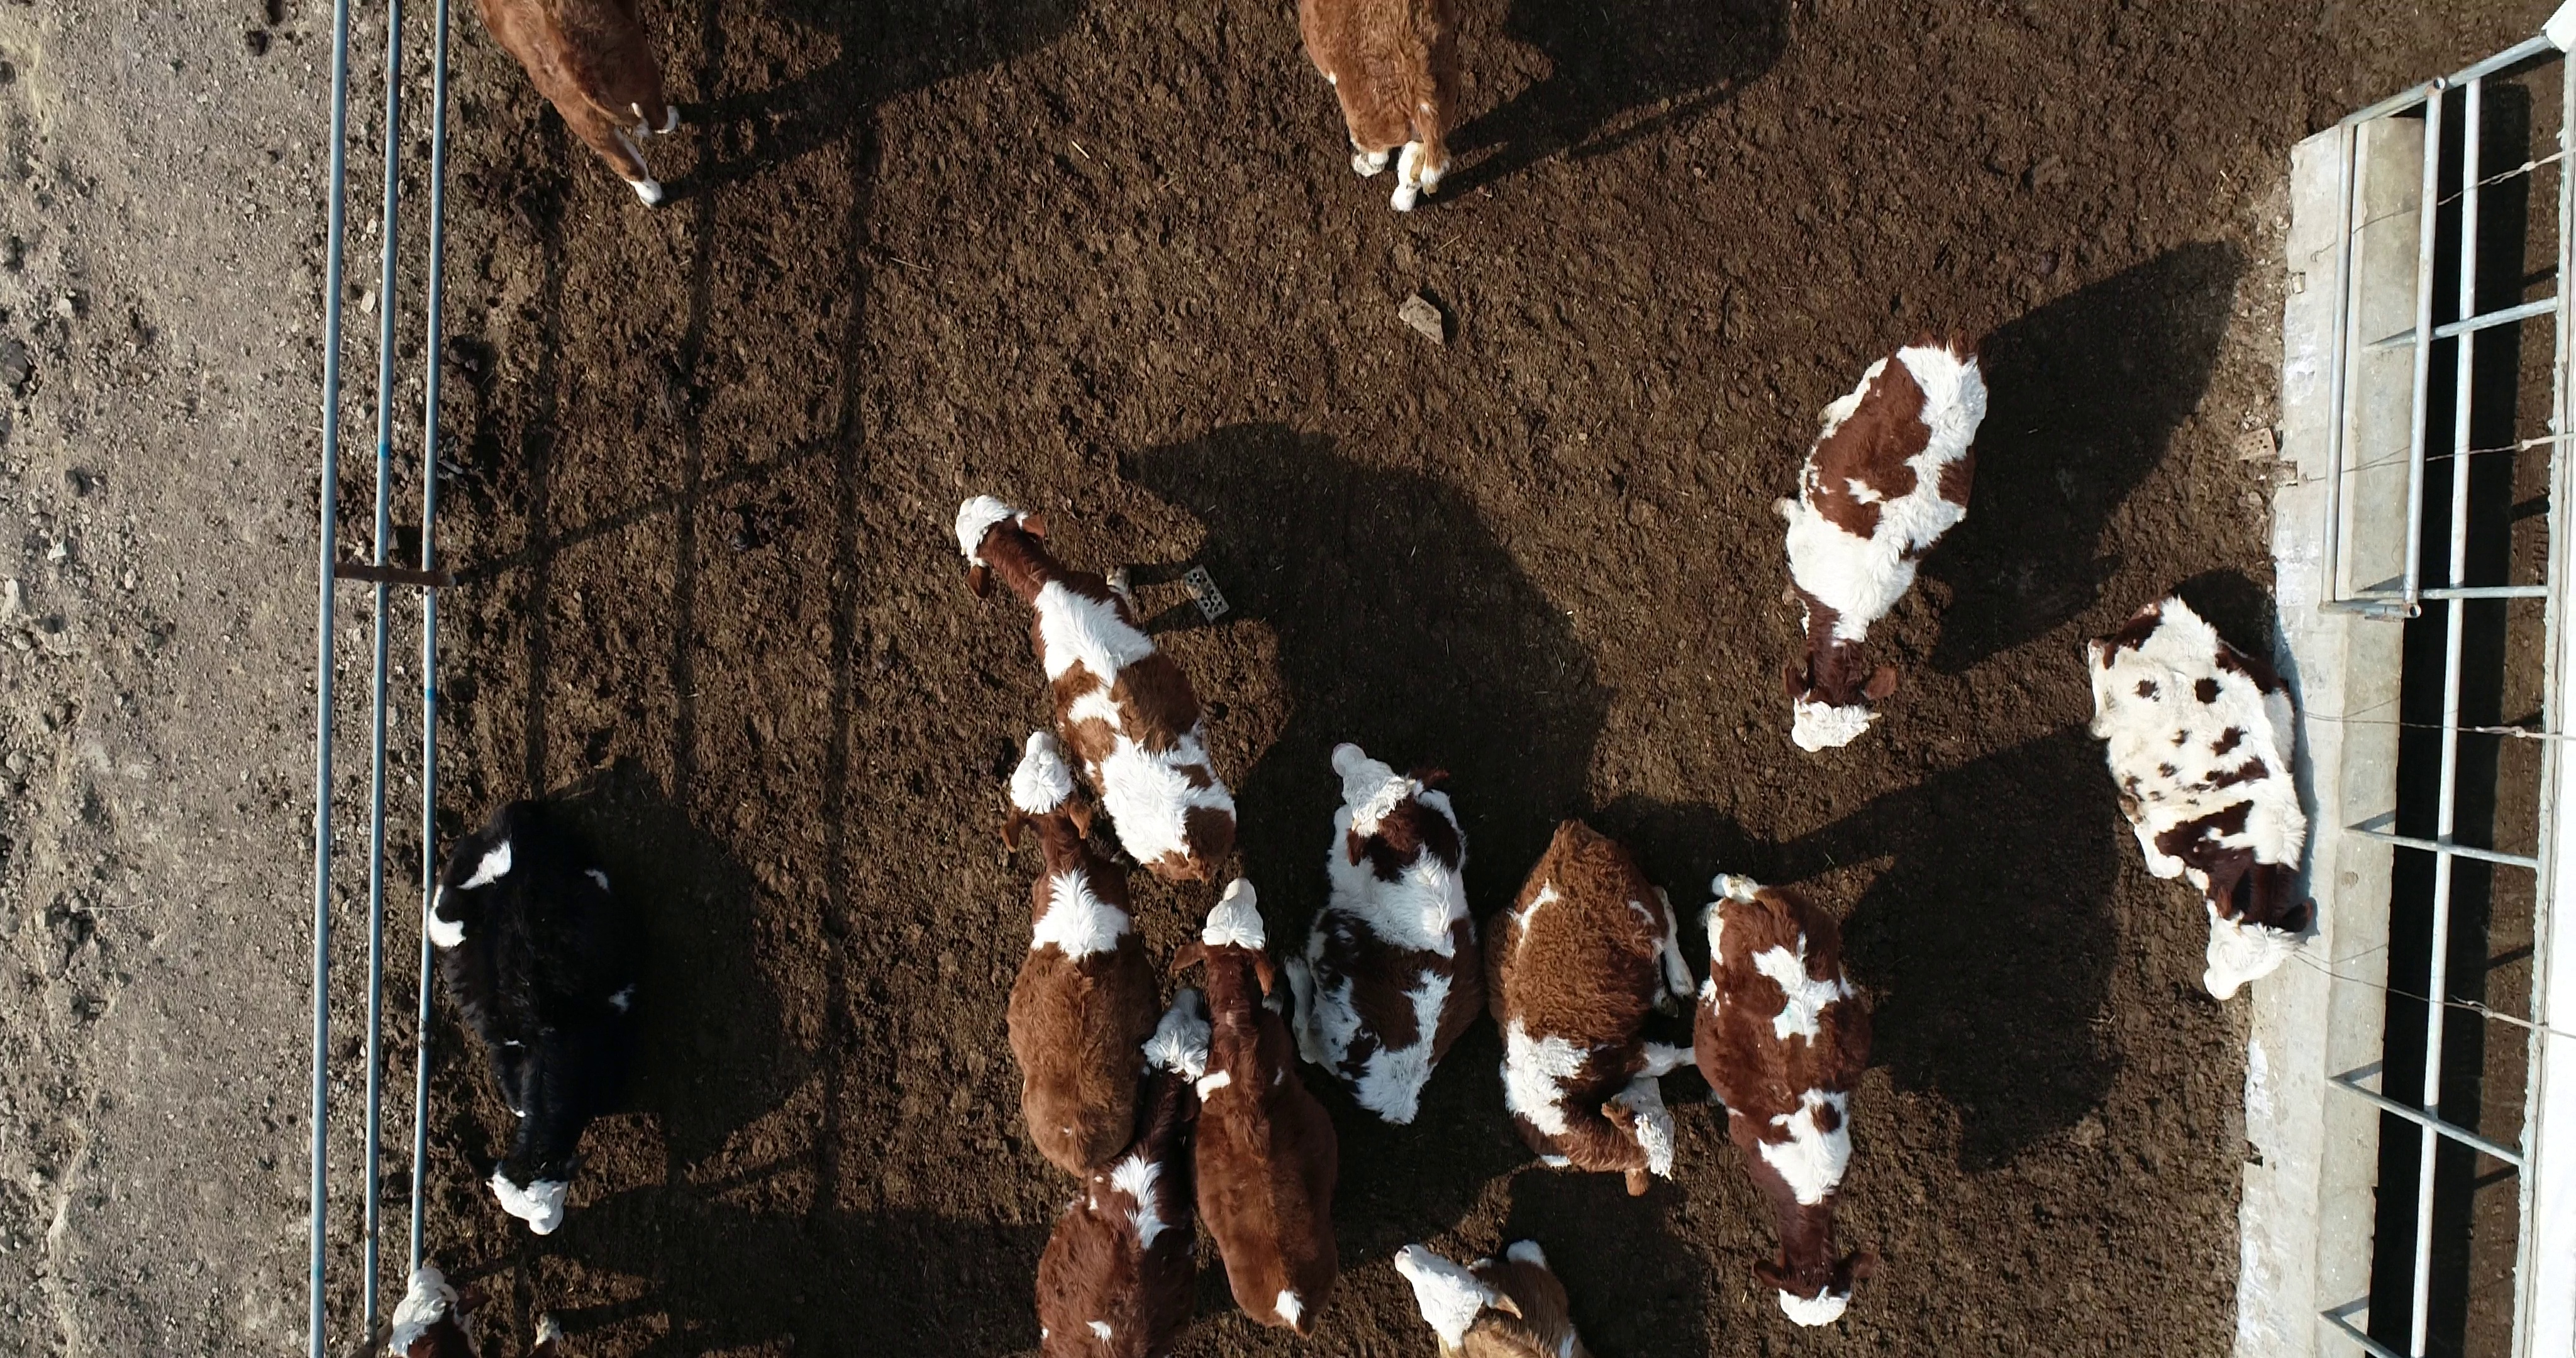cattle: (947, 492, 1252, 891), (419, 782, 671, 1244), (2072, 588, 2332, 1012), (1762, 322, 1993, 760), (1159, 874, 1356, 1344), (1688, 860, 1883, 1336), (1481, 809, 1716, 1194), (1271, 734, 1494, 1136), (986, 726, 1164, 1189)
